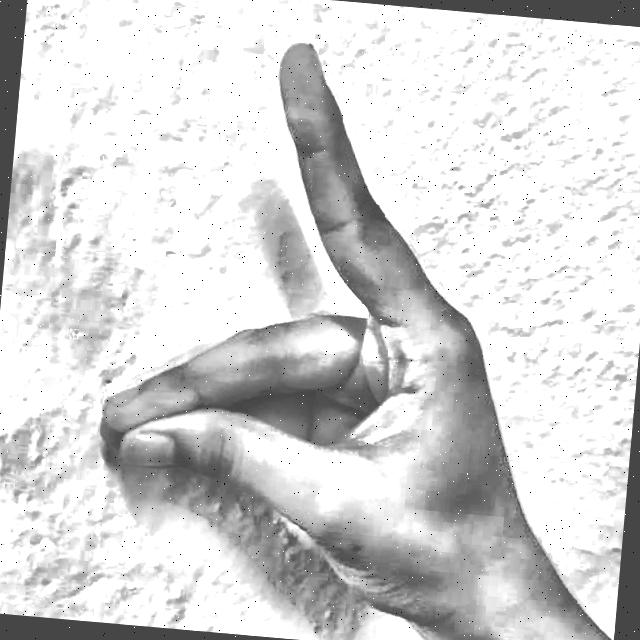Dha: (54, 3, 596, 640)
